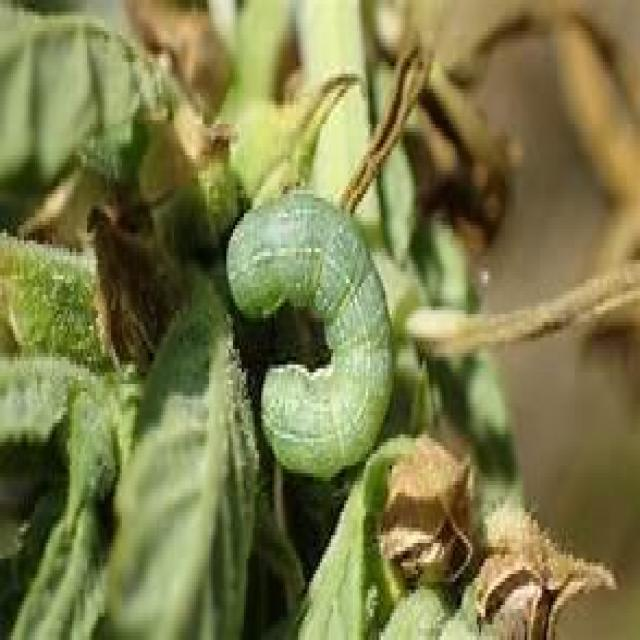BeetArmyWorm-Larva-: (212, 172, 412, 498)
